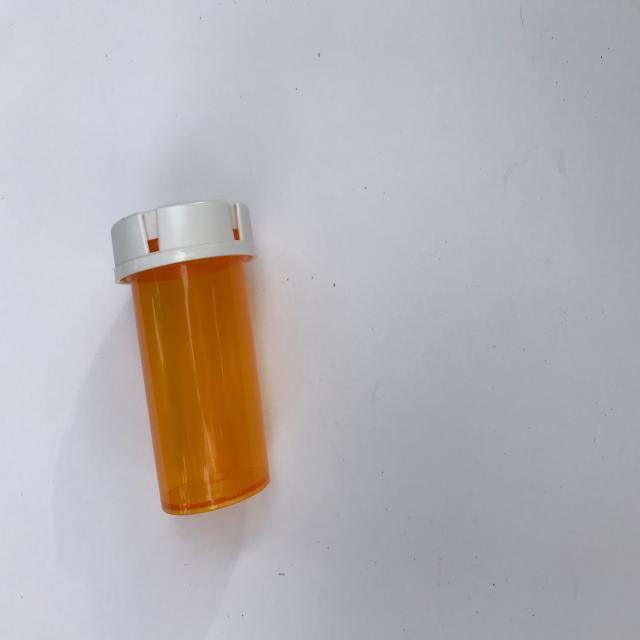plastic: (111, 198, 271, 516)
